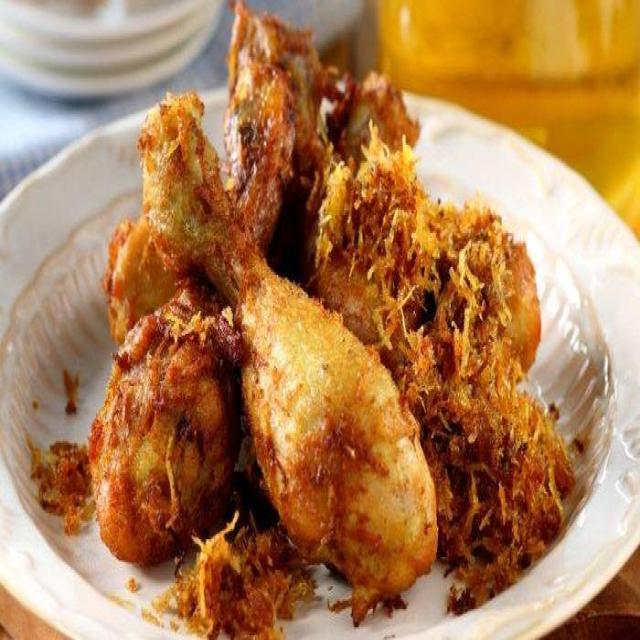ayam_goreng: (81, 0, 538, 600)
